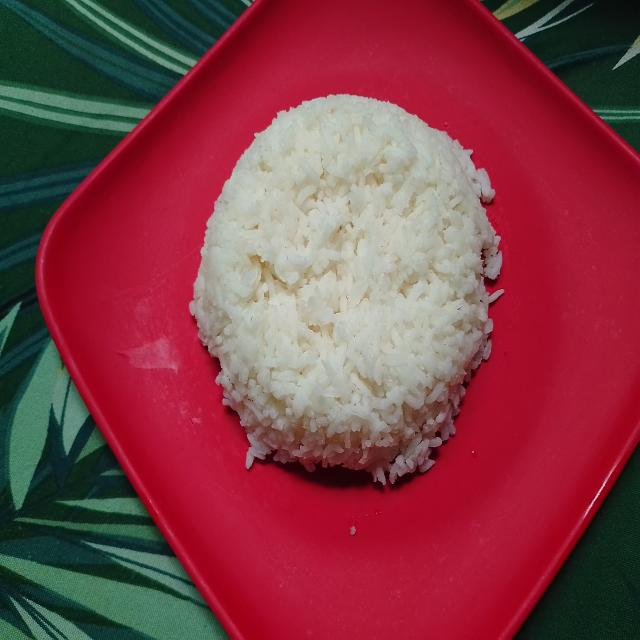Chicken -Chicken Inasal-: (195, 93, 486, 489)
